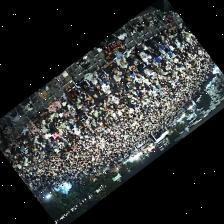person: (69, 73, 89, 91), (65, 83, 77, 102), (134, 57, 149, 72), (135, 47, 151, 61), (114, 50, 126, 66), (103, 60, 117, 73), (117, 63, 132, 75), (98, 80, 111, 93), (138, 41, 152, 53), (76, 89, 88, 103), (123, 48, 135, 62), (85, 70, 97, 83), (48, 100, 61, 112), (154, 40, 169, 50), (153, 33, 165, 44), (152, 52, 165, 62), (39, 109, 49, 122), (31, 114, 41, 127), (145, 38, 157, 48), (87, 86, 97, 98), (22, 125, 31, 138), (97, 66, 105, 80), (115, 83, 126, 93), (90, 79, 100, 90), (50, 118, 60, 129), (108, 71, 120, 80), (67, 112, 77, 122), (15, 132, 24, 143), (49, 110, 58, 121), (103, 69, 110, 83), (31, 125, 39, 137), (152, 56, 161, 66), (153, 64, 163, 73), (110, 77, 121, 85), (58, 94, 66, 105), (25, 119, 34, 128), (10, 137, 19, 146), (159, 46, 168, 55), (41, 123, 49, 133), (67, 104, 75, 114), (76, 95, 82, 108), (87, 93, 94, 104), (168, 26, 176, 35), (41, 119, 49, 127), (97, 41, 106, 48), (60, 105, 67, 114), (22, 138, 28, 148), (59, 122, 65, 132), (58, 112, 66, 119), (45, 132, 51, 141), (38, 128, 44, 137), (160, 30, 169, 36), (173, 23, 180, 30)
